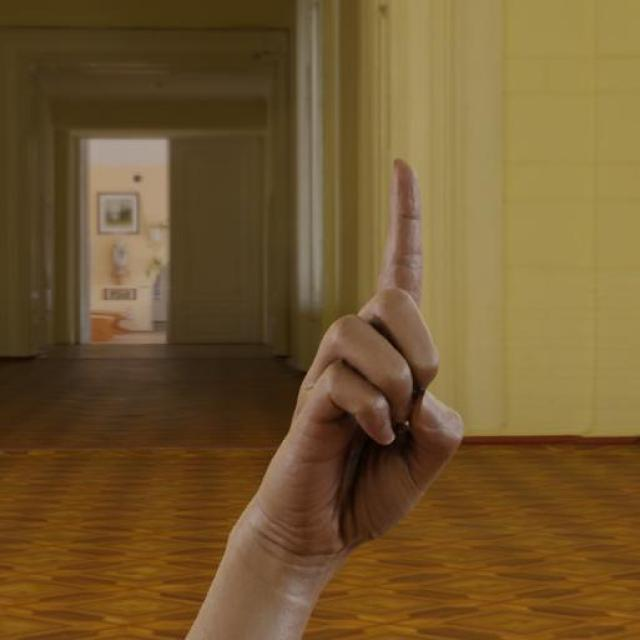D: (224, 156, 466, 549)
